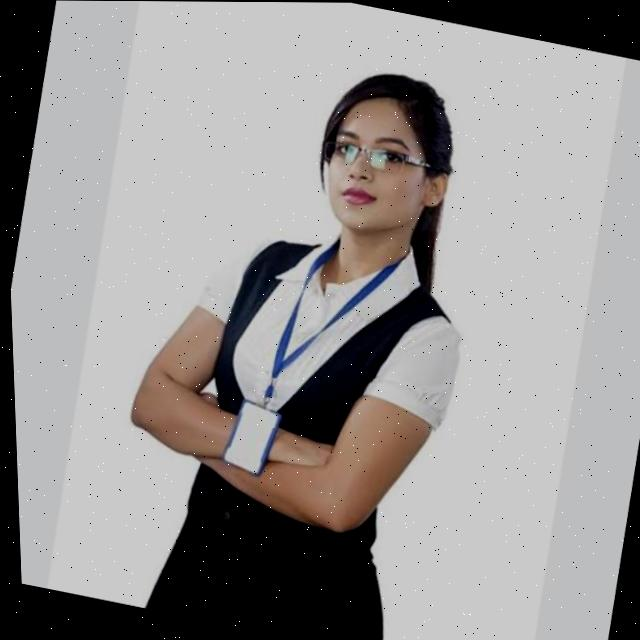id_card: (199, 226, 401, 503)
